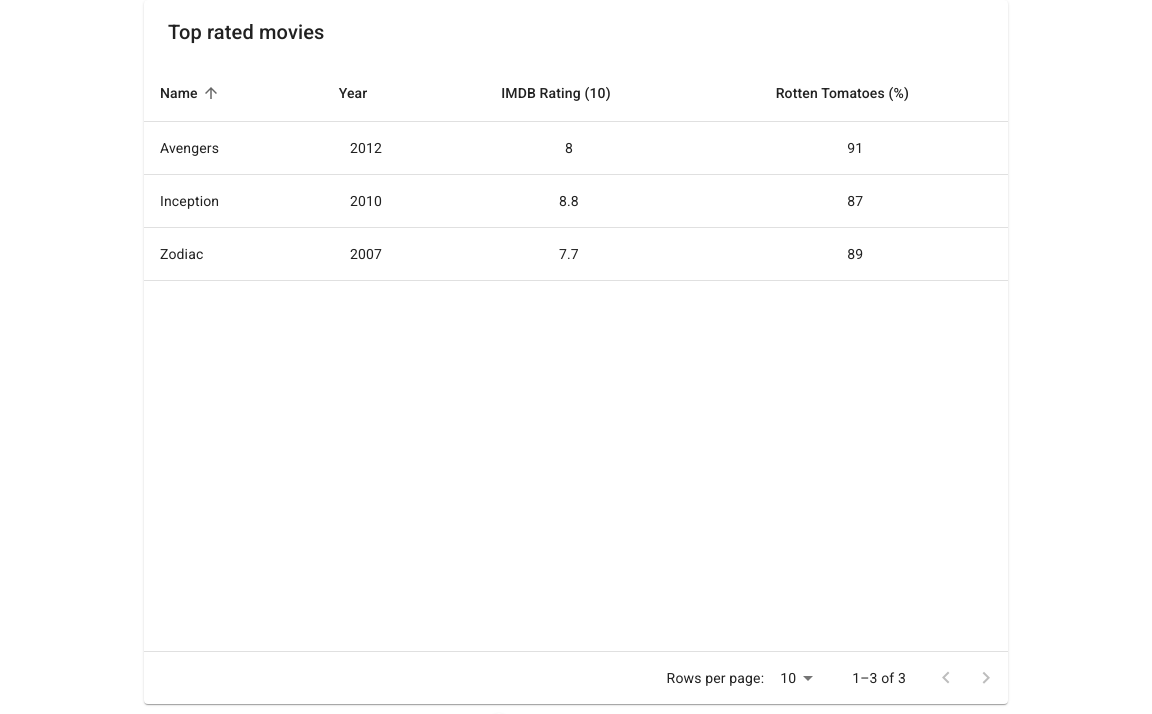
Scenario: TopRatedMovies sorting behavior › should use ascending comparator when order is asc (getComparator asc branch)
expect the text "Inception" is shown: met, box [144,175,297,228]
// Click Year column once - activates asc sort (new column, starts asc)
Click the button "Year". click: (353, 93)
box: [339,85,367,101]
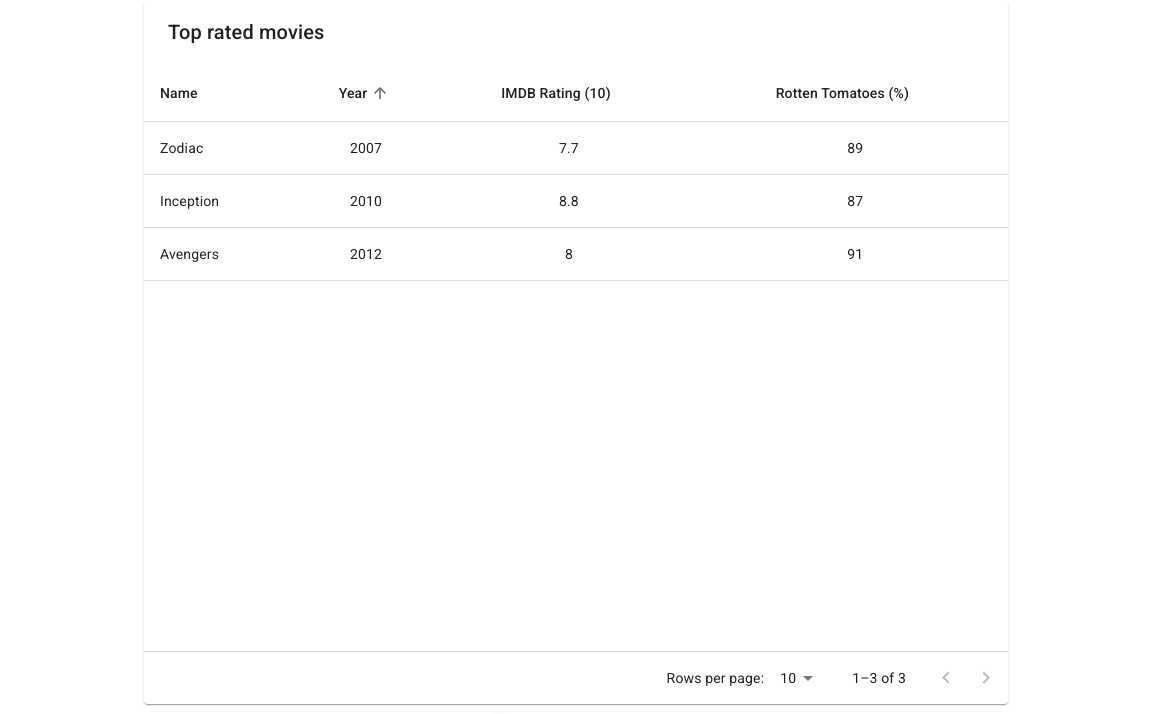
expect the row "Zodiac 2007 7.7 89" is shown: met, box [144,122,1008,175]
